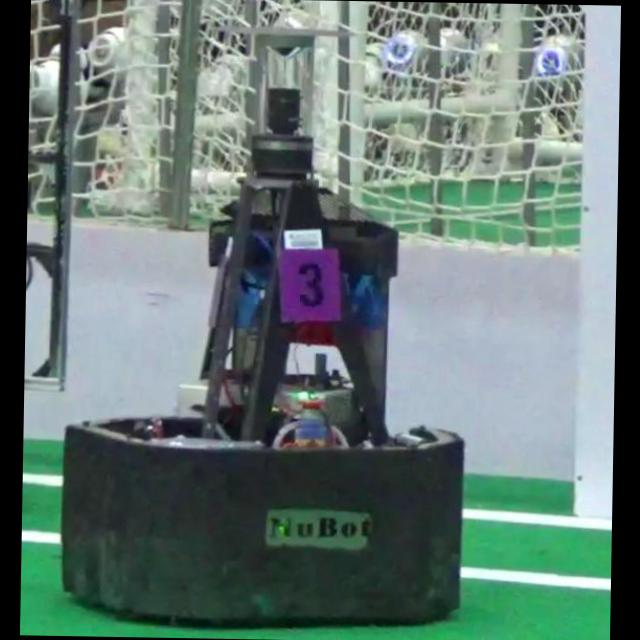goal: (576, 5, 621, 518)
robot: (60, 87, 464, 625)
